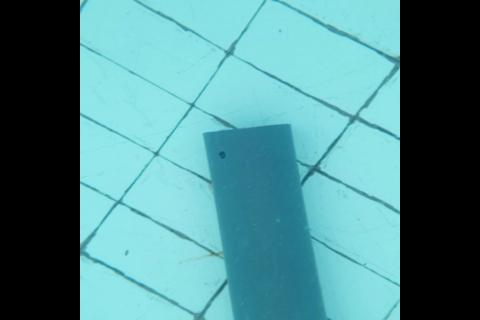kebocoran: (218, 150, 226, 158)
